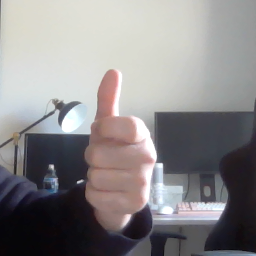G: (85, 66, 156, 210)
